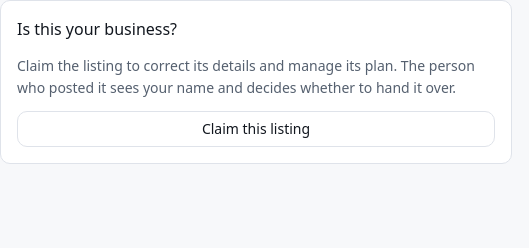
Test: ClaimPanel › opens the form, sends the claim against the listing, and confirms on screen
Click the button "Claim this listing" at point(256, 129), box [17, 111, 495, 147]
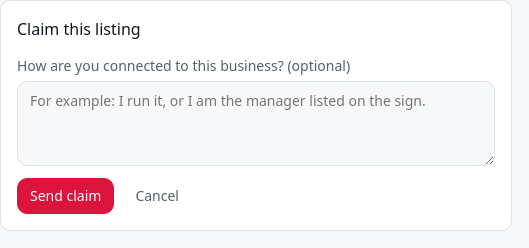
Replace the text in the text box labelled "How are you connected to this business? (optional)" with "  I run it  " at point(256, 124), box [17, 81, 495, 166]
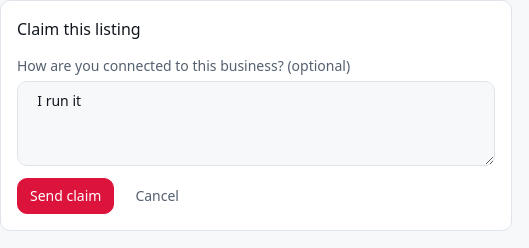
Click the button "Send claim" at point(66, 196), box [17, 178, 114, 214]
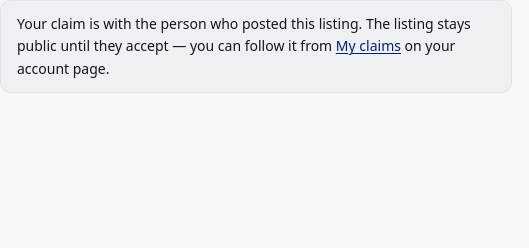
Result: the text "Your claim is with the person" is shown at [17, 14, 471, 55]
